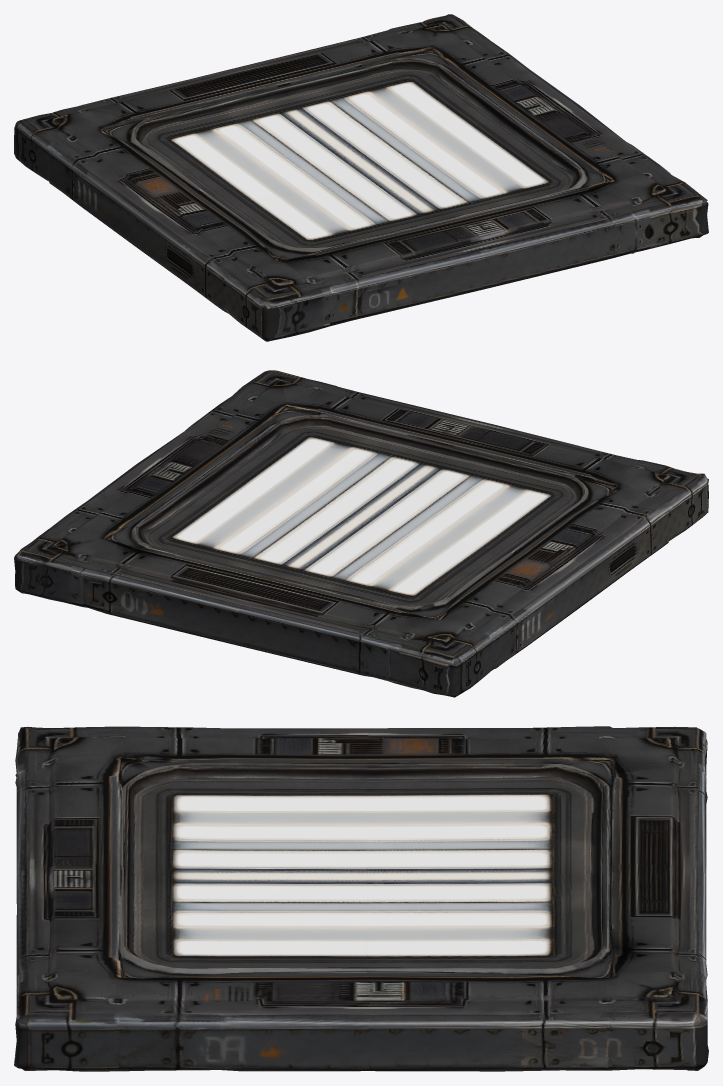
Rendered from ceiling_light_1.glb.
The picture shows the model from 3 angles, top to bottom: view 1: azimuth 30°, elevation 25°; view 2: azimuth 150°, elevation 25°; view 3: azimuth 270°, elevation 25°; orthographic projection. The views are drawn at different scales.
Visible parts, largest first — view 1: mesh_node; view 2: mesh_node; view 3: mesh_node.
Boxes of the visible parts, x1,y1,x2,y2 form: mesh_node: (14, 14, 708, 341); mesh_node: (14, 370, 708, 697); mesh_node: (14, 726, 708, 1071).
Size of the model in its own units: 0.1866 by 0.02 by 0.1859.
1 material, 1 textured.
